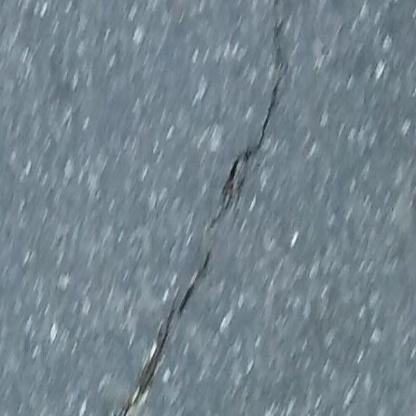Cracks: (104, 246, 220, 416), (220, 0, 290, 215)
